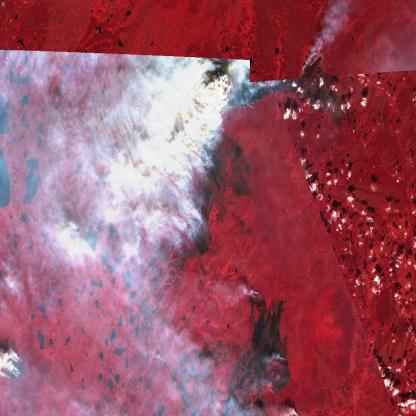fire: (209, 57, 266, 125), (260, 356, 296, 403), (294, 41, 330, 84), (0, 347, 28, 393), (242, 284, 268, 313)
